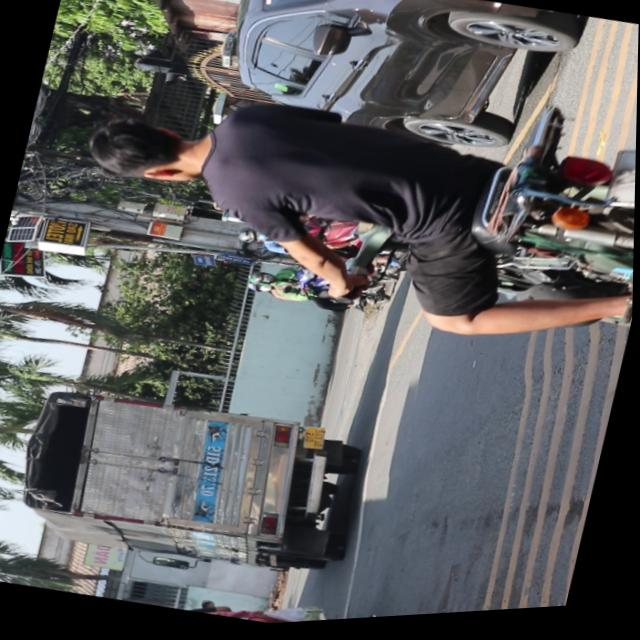licenseplate: (57, 8, 639, 398), (131, 568, 387, 633)
motorcyclist: (84, 106, 211, 194)
nohelmet: (606, 150, 637, 216)
